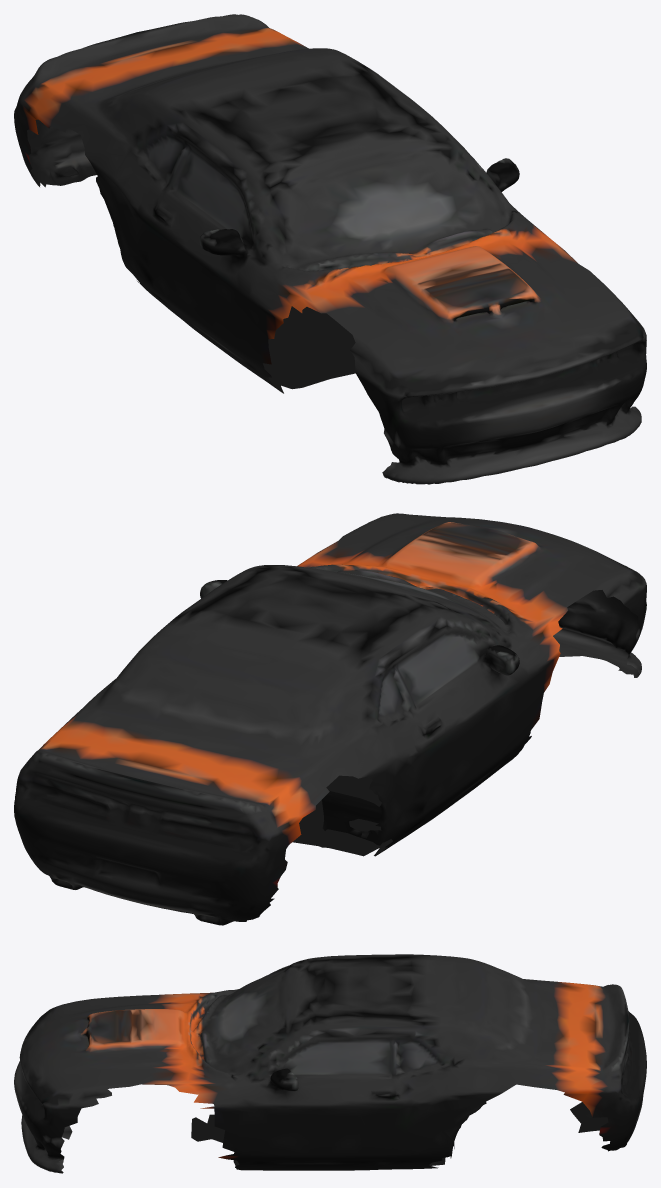
Rendered from muscle.glb.
The picture shows the model from 3 angles, top to bottom: view 1: azimuth 30°, elevation 25°; view 2: azimuth 150°, elevation 25°; view 3: azimuth 270°, elevation 25°; orthographic projection. The views are drawn at different scales.
Visible parts, largest first — view 1: geometry_0; view 2: geometry_0; view 3: geometry_0.
Boxes of the visible parts, <box> form: geometry_0: <box>14,14,646,484</box>; geometry_0: <box>14,513,646,925</box>; geometry_0: <box>14,954,646,1173</box>.
Bounding box in the file's own units: 2.07 × 1.2 × 4.8.
